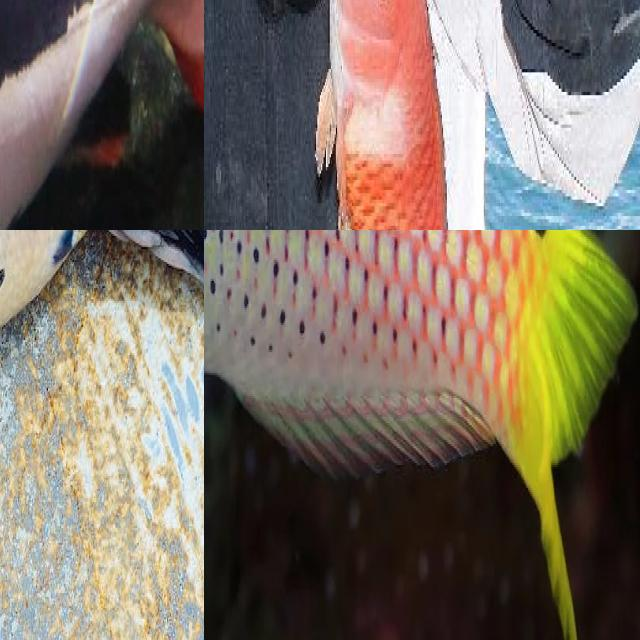fish: (204, 230, 498, 640), (0, 0, 204, 230), (313, 0, 448, 230)
